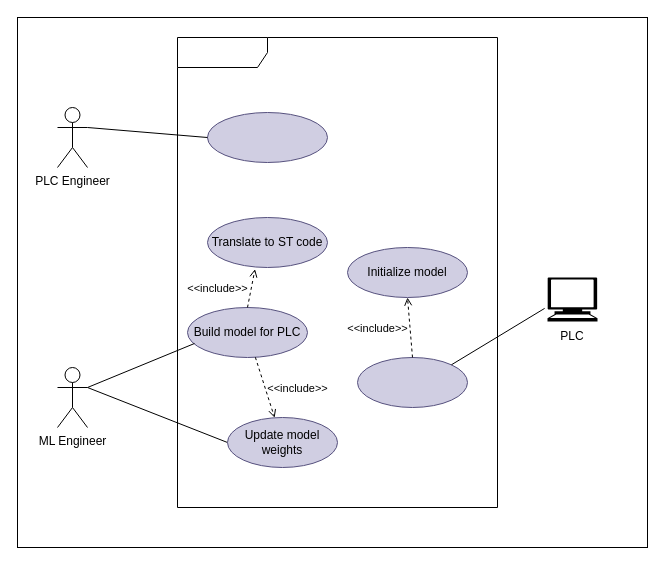
Image size: 665x565. Some labels were removed from this diagram. The shapes that lost their labels are listed below. From the top down, each one's box as (x1, y1, x2, y2) in pixels, then its label:
(206, 112, 328, 162): Add to PLC project
(176, 36, 498, 508): RTNNIgen
(356, 356, 468, 408): Run model inference
